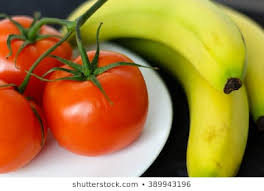tomato: (42, 50, 148, 155)
